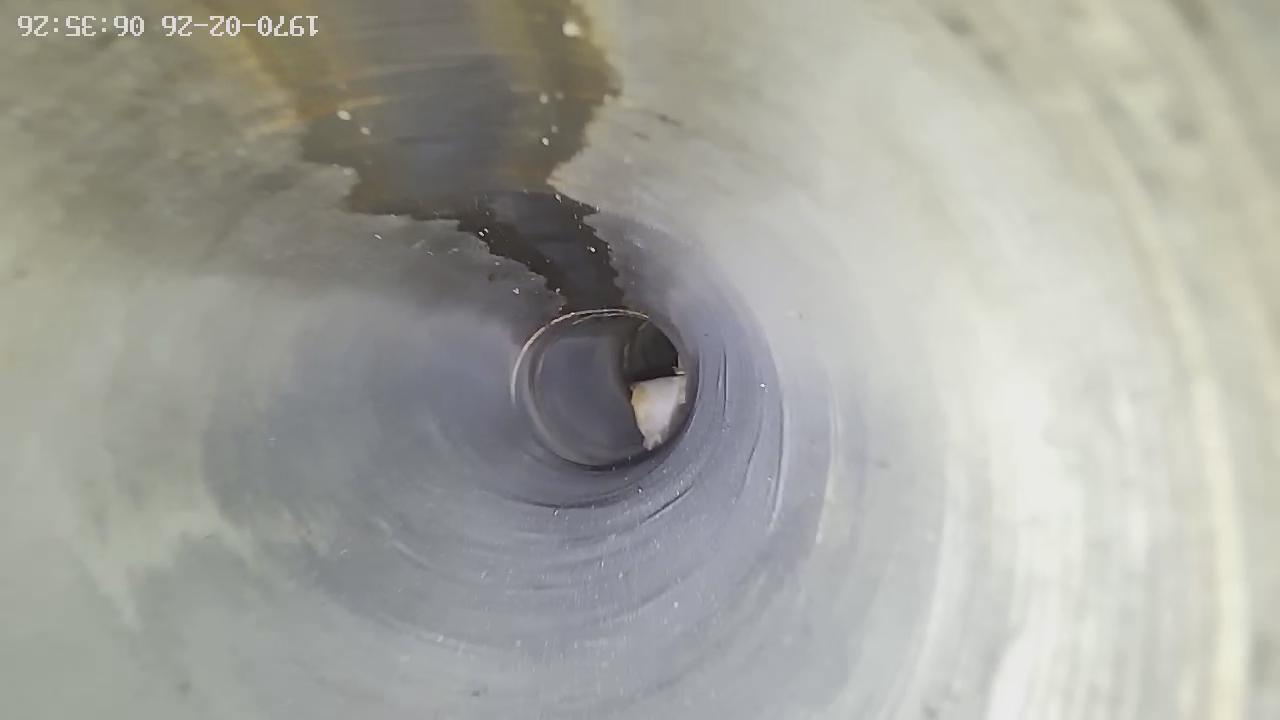ZGAJ: (631, 374, 687, 450)
